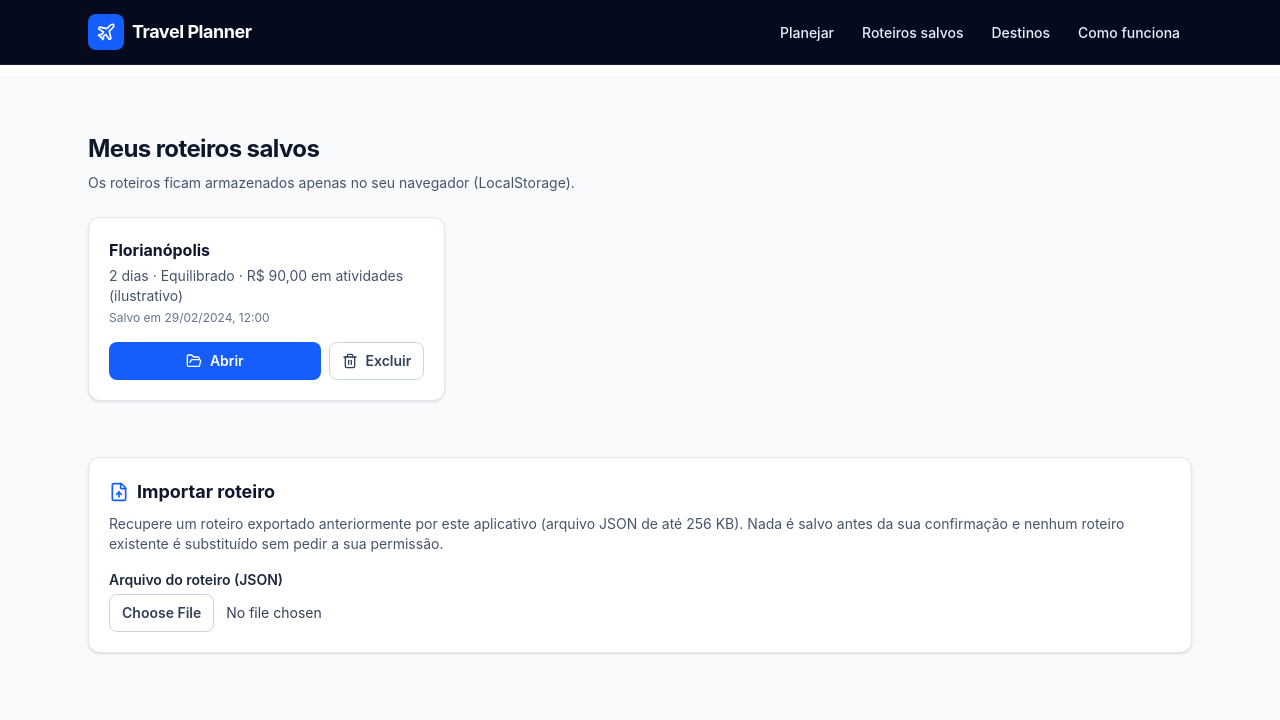
Test: Nova home — ações preservadas › mantém roteiros salvos, importação e exclusão funcionando na nova ordem
(page scrolled)
Expected: the element "Importar roteiro" is shown, [0,457,1279,709]
Click the button "Abrir".
click(215, 361)  # box [109,342,321,380]
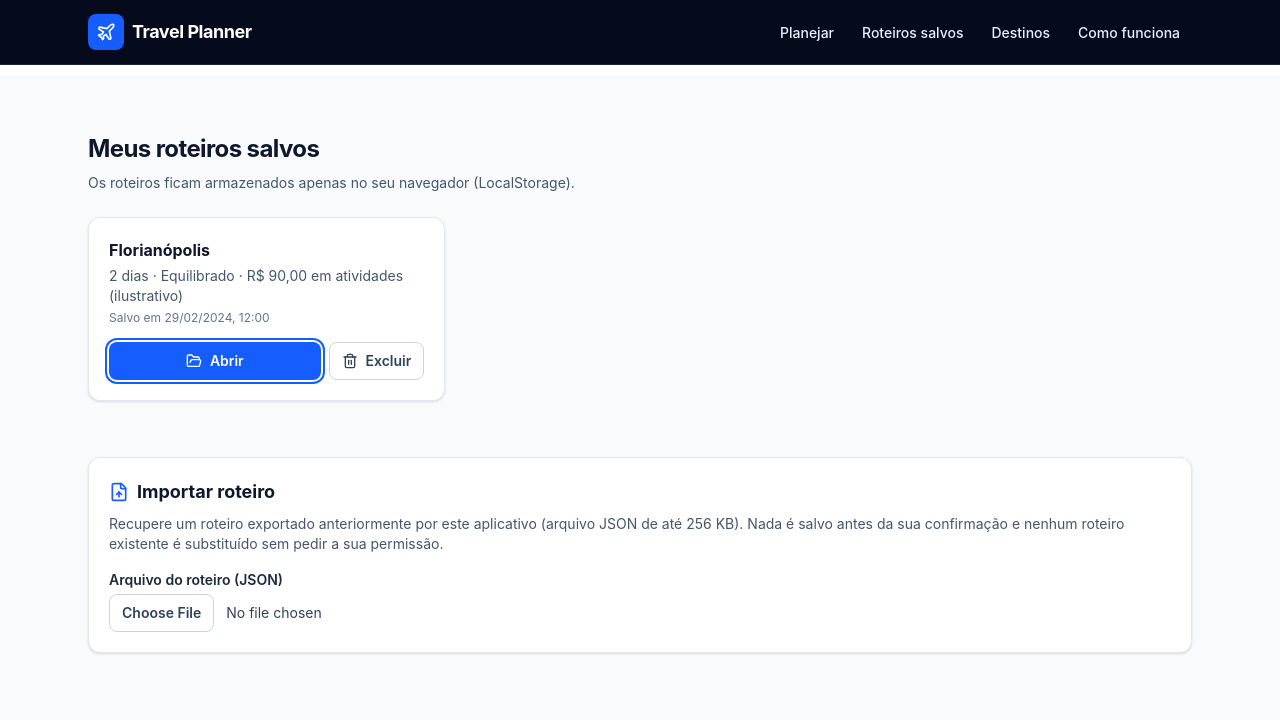
Click the button with aria-label "Excluir roteiro de Florianópolis".
click(376, 361)  # box [329,342,424,380]
(page scrolled)
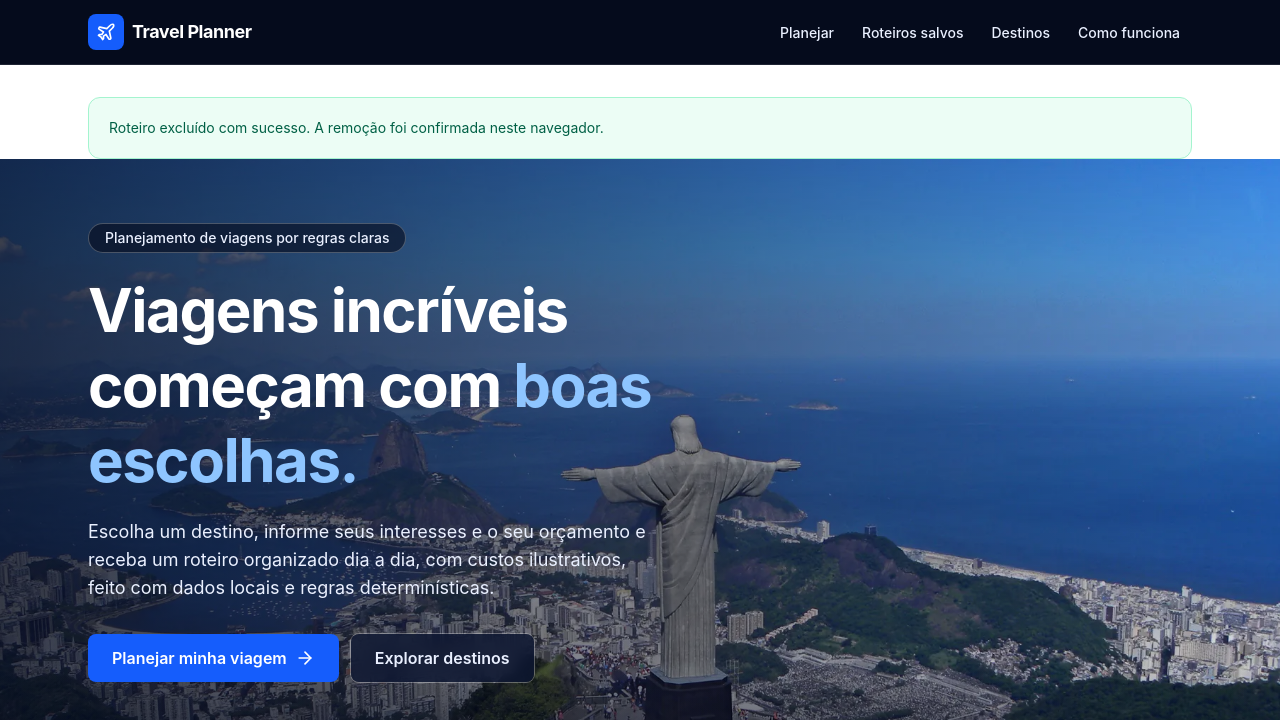
Result: the text "Roteiro excluído com sucesso. A remoção foi confirmada neste navegador." is shown at [88,97,1192,159]
